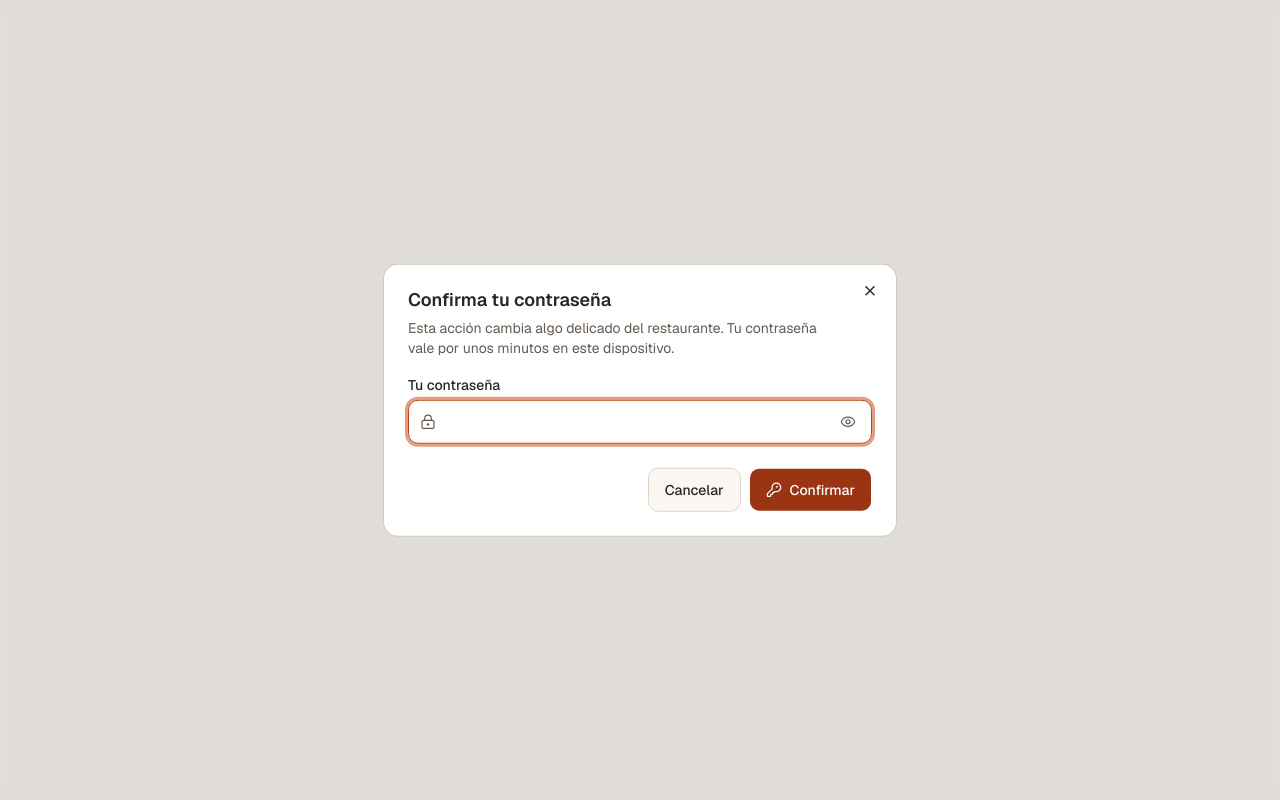
it: «Confirma tu contraseña» (RFS-21) › un código equivocado se avisa y la ventana sigue abierta para corregirlo
Step 1. Type "resthub123" into the password field labelled "Tu contraseña" → (640, 421), box [408,399,872,443]
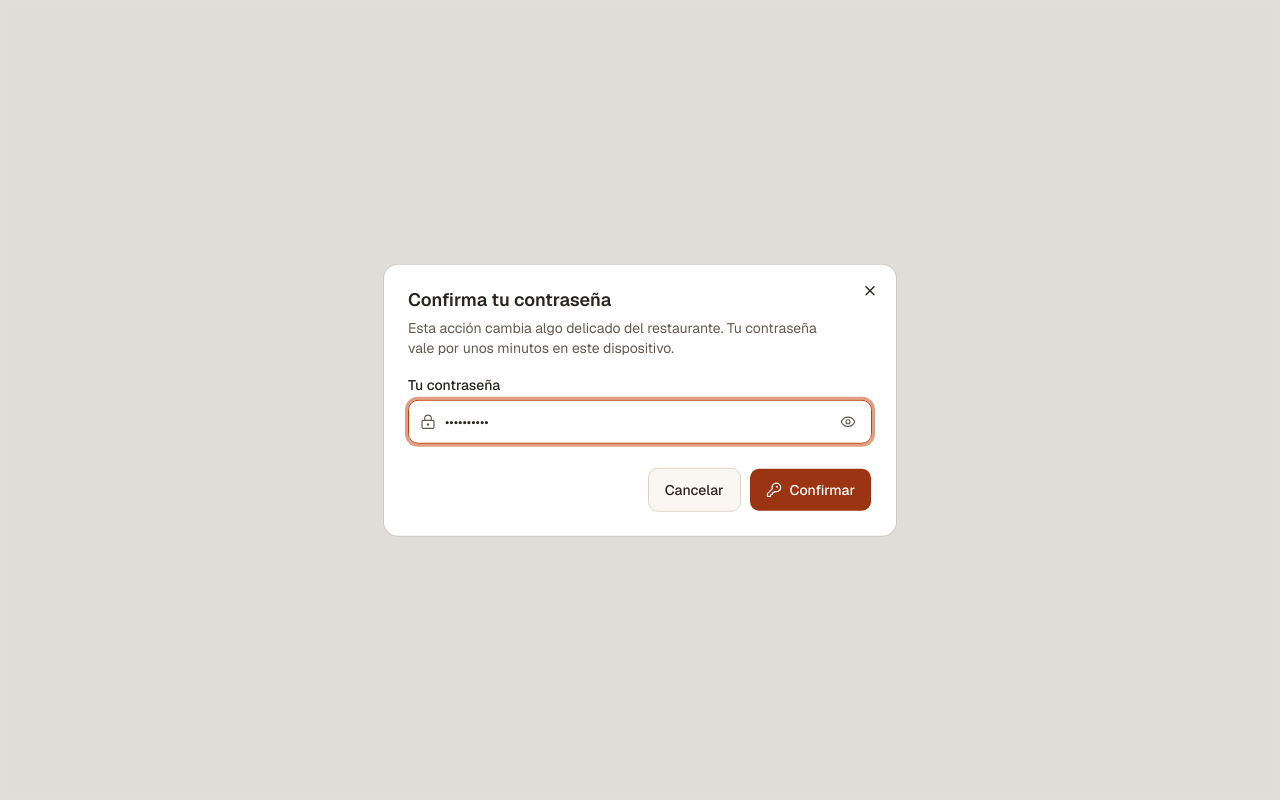
Step 2. Click the button "Confirmar" → click(810, 489), box [749,467,872,511]
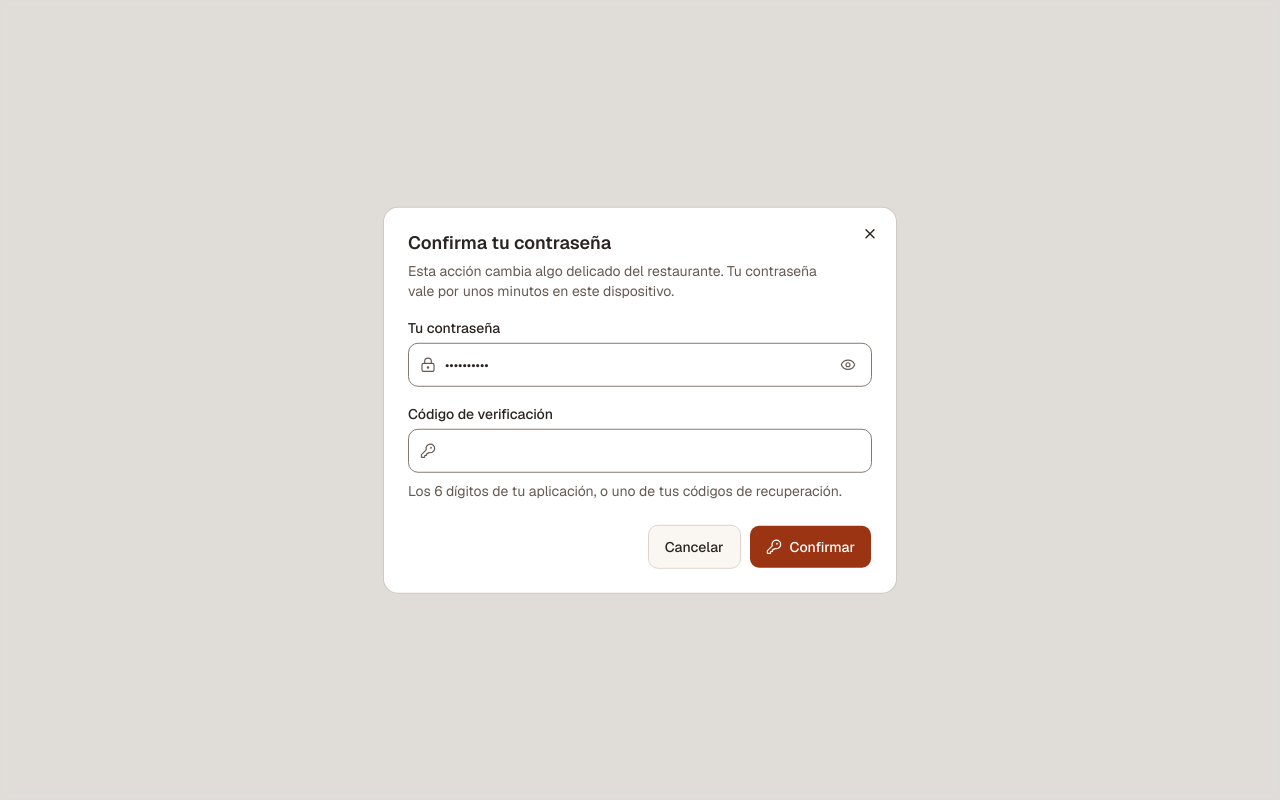
Step 3. Type "000000" into the field labelled "Código de verificación" → (640, 450), box [408,428,872,472]
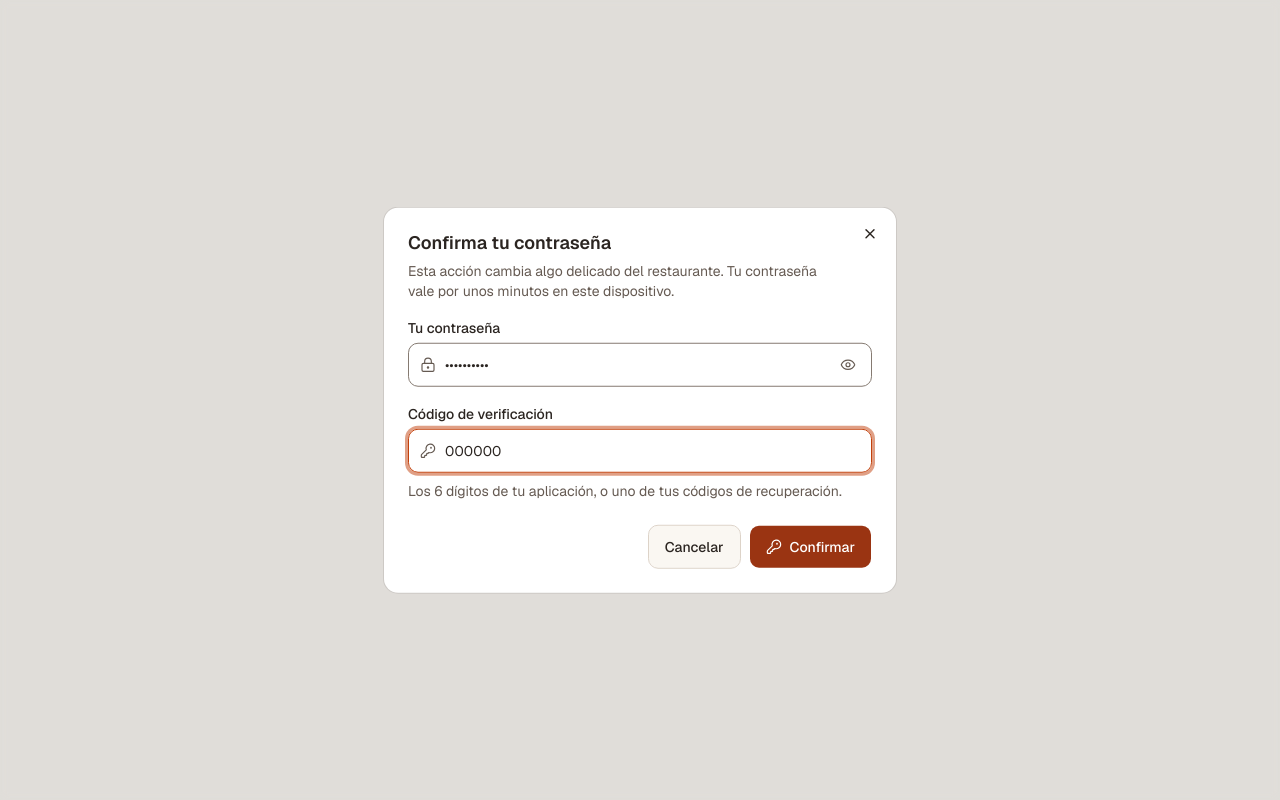
Step 4. Click the button "Confirmar" → click(810, 546), box [749,524,872,568]
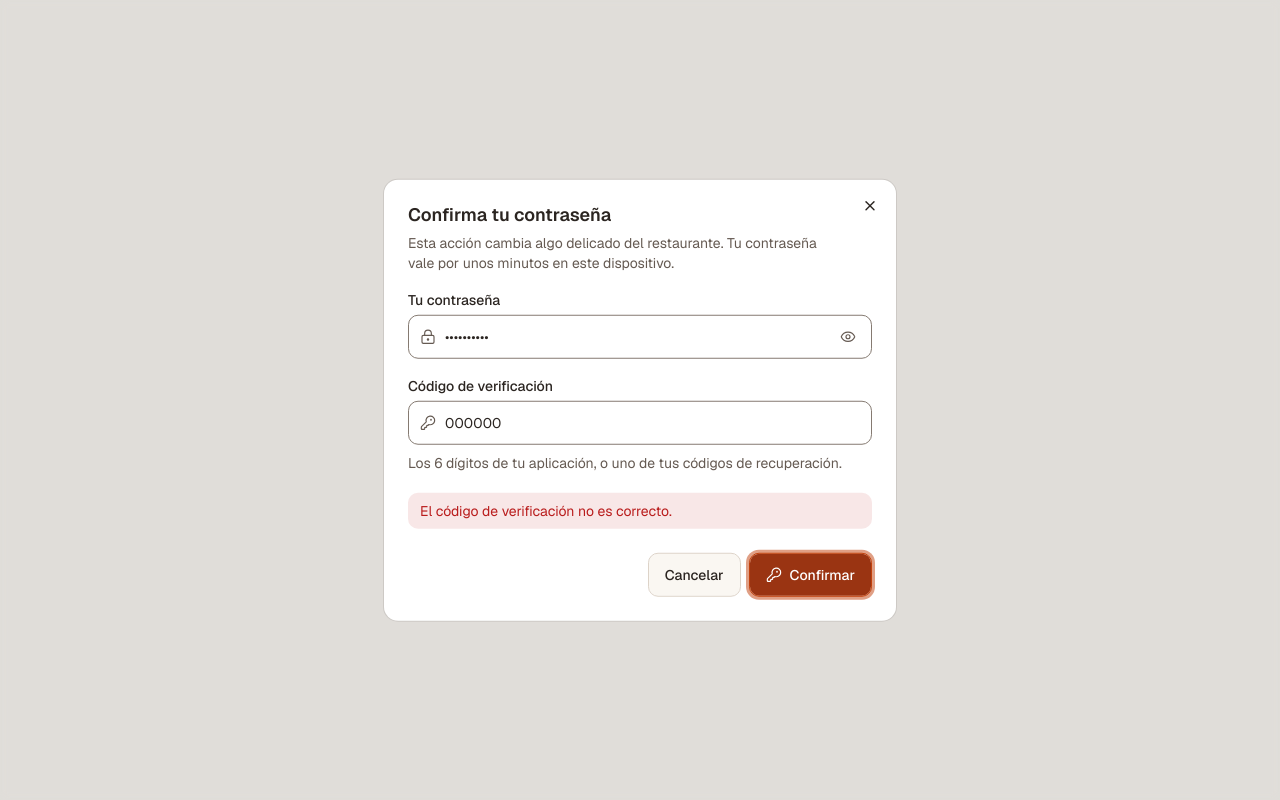
Check: the text "El código de verificación no es correcto." is shown, box [408,492,872,528]
